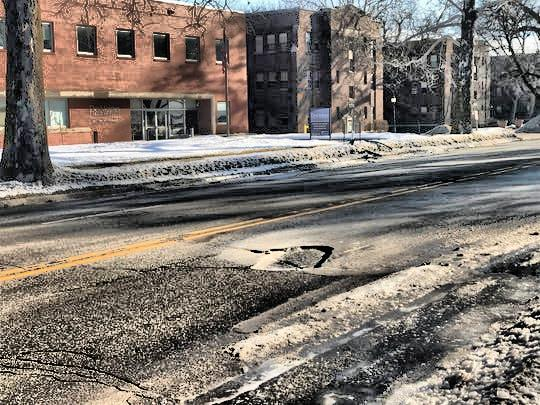pothole: (250, 244, 334, 274)
